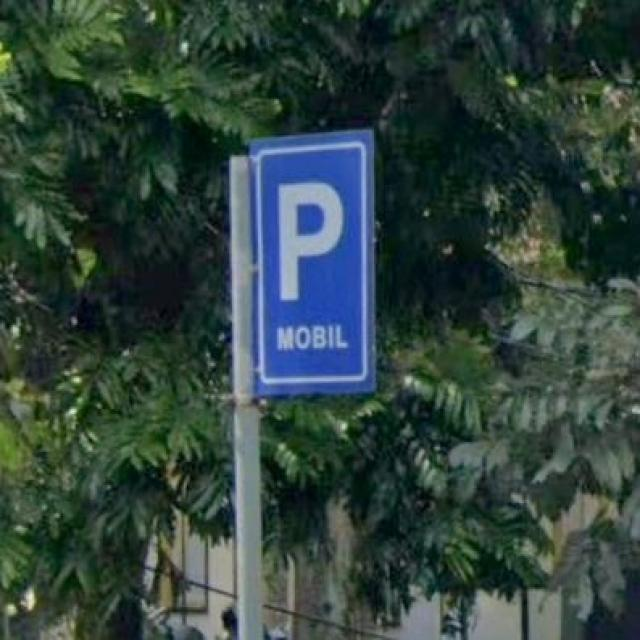traffic sign: (248, 129, 370, 393)
